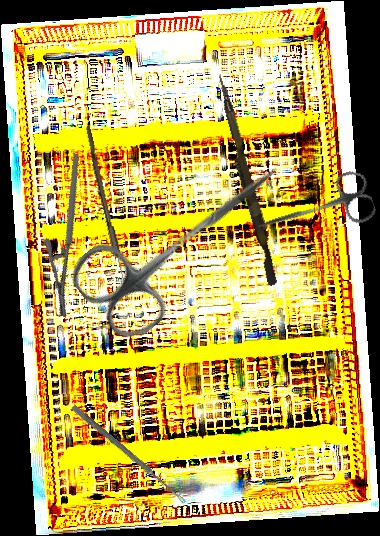Iris Scissors: (63, 126, 305, 350), (250, 167, 379, 254)
Needle Holder: (10, 152, 130, 319)
Pusher: (208, 72, 284, 287)
Surgical Spoon: (70, 404, 188, 505), (81, 125, 134, 303)
